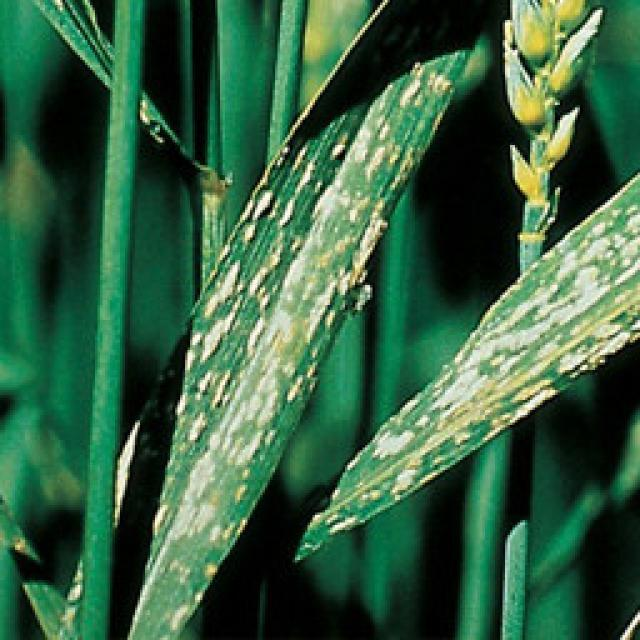Powdery Mildew: (153, 77, 402, 588), (399, 215, 640, 486)
